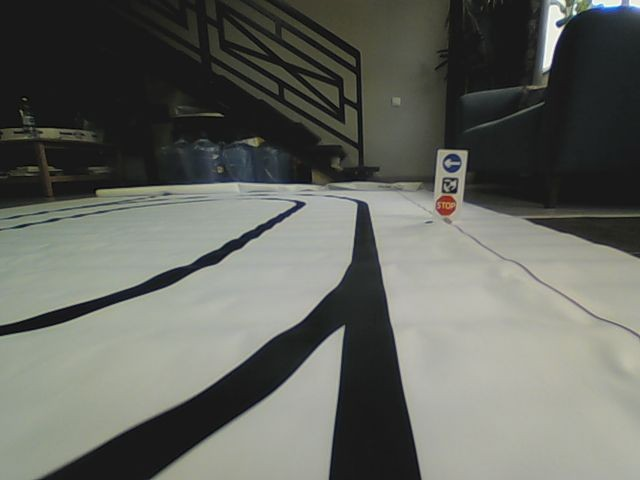Stop: (434, 195, 457, 216)
